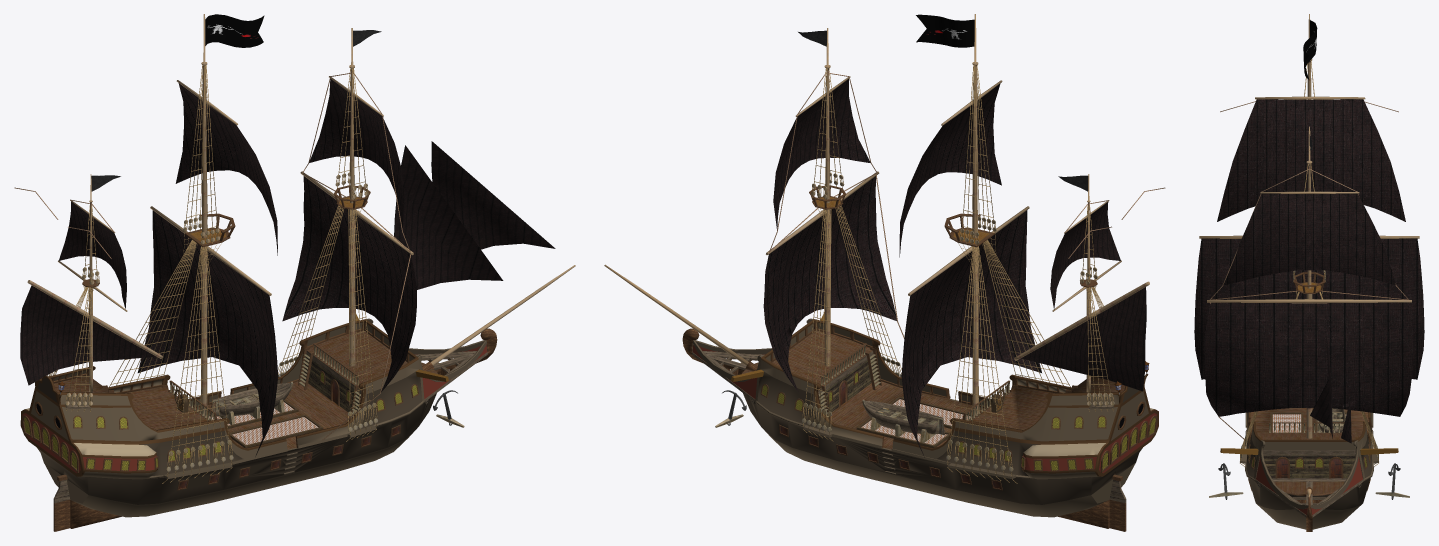
Rendered from queen_annes_revenge_free.glb.
The picture shows the model from 3 angles, left to right: view 1: azimuth 30°, elevation 25°; view 2: azimuth 150°, elevation 25°; view 3: azimuth 270°, elevation 25°; orthographic projection. The views are drawn at different scales.
Parts seen in each view (by area): view 1: Schiff_Rumpf1.001_378, G-__563079_292, Sketchup_0, Schiff_Segel 1_1_283, Besansegel_vorne_256, G-__563448_364, Besansegel_vorne.001_257, G-Segel2_2_298, G-Segel 1_2_272, Schiff_Rumpf1_103, G-Segel3_2_303, G-__563331_341 (+12 smaller); view 2: Schiff_Rumpf1_103, G-__563079_292, Sketchup_0, Schiff_Segel 1_1_283, G-__563448_364, G-Segel2_2_298, G-Segel 1_2_272, Schiff_Rumpf1.001_378, G-Segel3_2_303, G-__563214_319, Schiff_Mittelmast_284, G-__562494_68 (+10 smaller); view 3: Schiff_Segel 1_1_283, G-Segel2_2_298, G-Segel 1_2_272, G-__563079_292, Sketchup_0, Schiff_Rumpf1.001_378, Schiff_Rumpf1_103, Besansegel_vorne_256, G-__562980_267, Argosia Flagge_wehend_102, G-__563097_296, G-__562998_273.
Part boxes in pixels (bbox=[...]): Schiff_Rumpf1.001_378: bbox=[47, 340, 487, 517]; G-__563079_292: bbox=[137, 210, 278, 456]; Sketchup_0: bbox=[53, 328, 497, 531]; Schiff_Segel 1_1_283: bbox=[282, 176, 416, 392]; Besansegel_vorne_256: bbox=[394, 145, 503, 289]; G-__563448_364: bbox=[20, 285, 155, 385]; Besansegel_vorne.001_257: bbox=[431, 141, 555, 249]; G-Segel2_2_298: bbox=[175, 83, 277, 255]; G-Segel 1_2_272: bbox=[309, 78, 404, 228]; Schiff_Rumpf1_103: bbox=[20, 313, 485, 486]; G-Segel3_2_303: bbox=[59, 201, 126, 308]; G-__563331_341: bbox=[162, 246, 232, 483]; Schiff_Rumpf1_103: bbox=[692, 340, 1132, 517]; G-__563079_292: bbox=[901, 210, 1041, 457]; Sketchup_0: bbox=[682, 328, 1126, 531]; Schiff_Segel 1_1_283: bbox=[763, 176, 896, 392]; G-__563448_364: bbox=[1021, 287, 1146, 391]; G-Segel2_2_298: bbox=[899, 83, 1001, 257]; G-Segel 1_2_272: bbox=[773, 79, 870, 229]; Schiff_Rumpf1.001_378: bbox=[694, 312, 1158, 487]; G-Segel3_2_303: bbox=[1050, 202, 1120, 309]; G-__563214_319: bbox=[947, 246, 1017, 483]; Schiff_Mittelmast_284: bbox=[972, 14, 978, 416]; G-__562494_68: bbox=[803, 209, 833, 441]; Schiff_Segel 1_1_283: bbox=[1204, 302, 1412, 416]; G-Segel2_2_298: bbox=[1217, 99, 1405, 221]; G-Segel 1_2_272: bbox=[1223, 193, 1395, 285]; G-__563079_292: bbox=[1194, 238, 1424, 379]; Sketchup_0: bbox=[1250, 408, 1368, 531]; Schiff_Rumpf1.001_378: bbox=[1220, 412, 1309, 529]; Schiff_Rumpf1_103: bbox=[1309, 412, 1398, 529]; Besansegel_vorne_256: bbox=[1310, 310, 1332, 438]; G-__562980_267: bbox=[1207, 299, 1411, 303]; Argosia Flagge_wehend_102: bbox=[1303, 20, 1317, 79]; G-__563097_296: bbox=[1255, 96, 1365, 99]; G-__562998_273: bbox=[1293, 272, 1325, 293].
Bounding box in the file's own units: 53.01 × 44.63 × 20.88.
27 materials, 24 textured.
